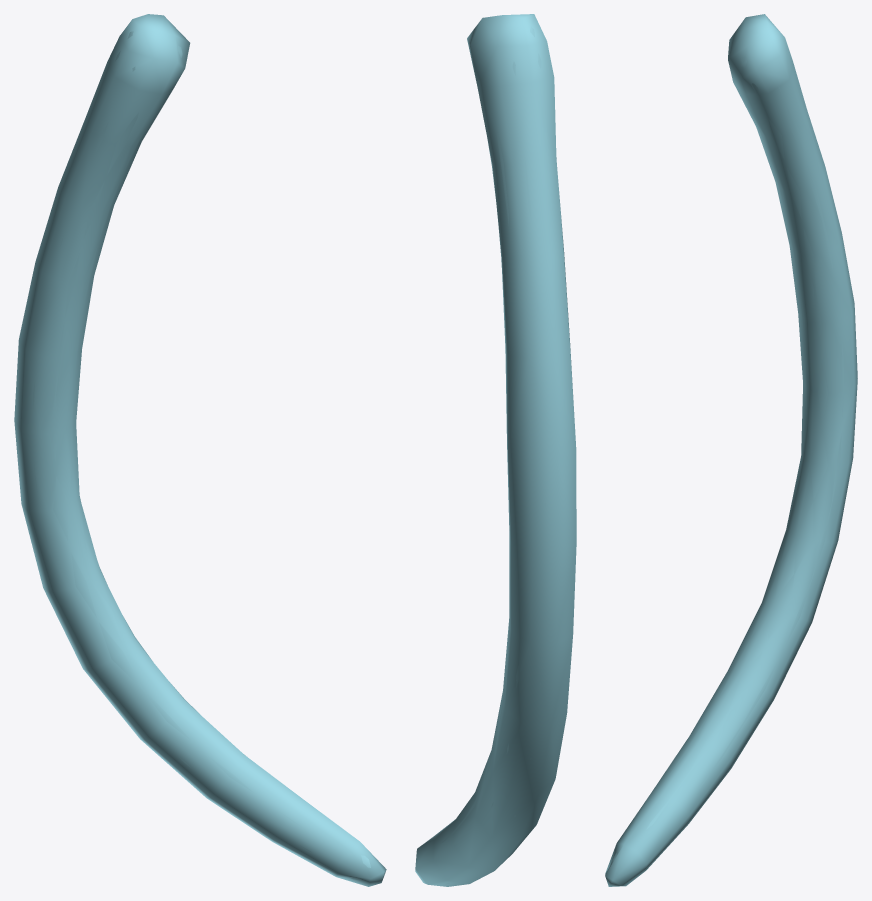
3 views of the same model, side by side, from view 1: azimuth 30°, elevation 25°; view 2: azimuth 150°, elevation 25°; view 3: azimuth 270°, elevation 25° (orthographic). The views are drawn at different scales.
Parts seen in each view (by area): view 1: CC R13 low, CC R13; view 2: CC R13 low, CC R13; view 3: CC R13 low, CC R13.
Part boxes in pixels (left/top/right/bottom): CC R13 low: left=14, top=14, right=386, bottom=886; CC R13: left=21, top=31, right=370, bottom=880; CC R13 low: left=415, top=14, right=576, bottom=886; CC R13: left=432, top=26, right=567, bottom=884; CC R13 low: left=605, top=14, right=857, bottom=886; CC R13: left=610, top=56, right=844, bottom=865.
Bounding box in the file's own units: 1.42 × 4.56 × 1.31.
